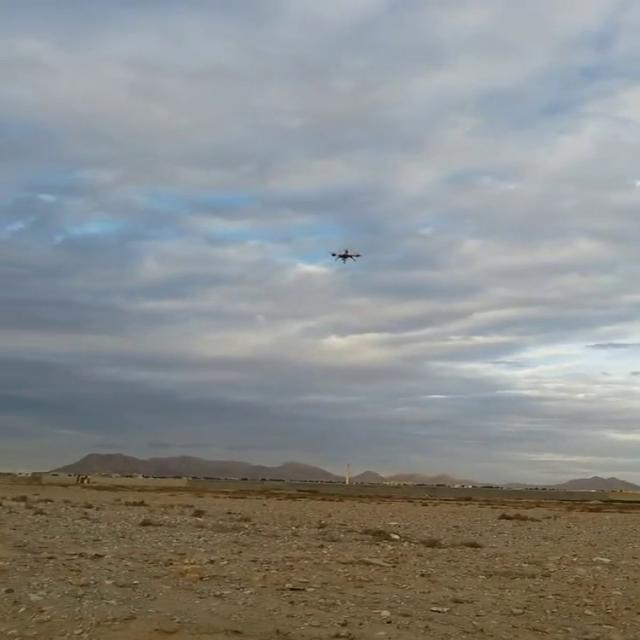drone: (326, 244, 363, 266)
